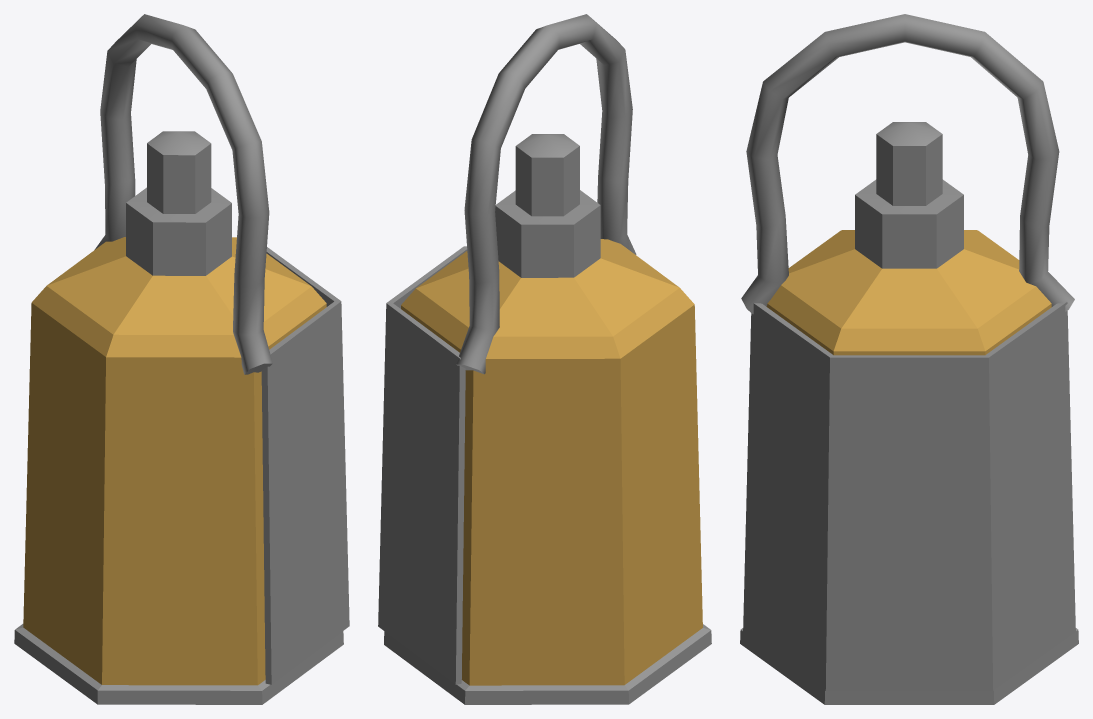
File: lamp.fbx
3 renders of one model, left to right at view 1: azimuth 30°, elevation 25°; view 2: azimuth 150°, elevation 25°; view 3: azimuth 270°, elevation 25°, orthographic. The views are drawn at different scales.
Visible parts, largest first — view 1: Cylinder021; view 2: Cylinder021; view 3: Cylinder021.
Boxes of the visible parts, x1,y1,x2,y2 form: Cylinder021: (14,14,349,704); Cylinder021: (378,14,711,704); Cylinder021: (740,14,1078,704).
Size of the model in its own units: 0.6562 by 1.54 by 0.7491.
